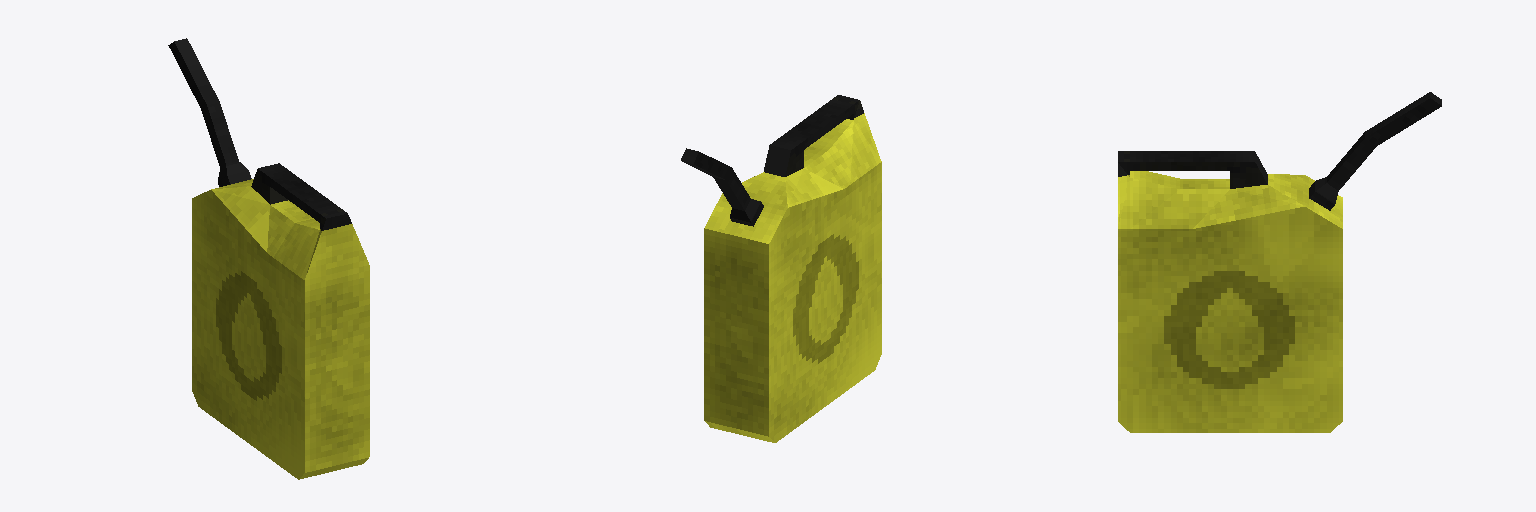
3 renders of one model, left to right at view 1: azimuth 30°, elevation 25°; view 2: azimuth 150°, elevation 25°; view 3: azimuth 270°, elevation 25°, orthographic.
Visible parts, largest first — view 1: Can, Spout; view 2: Can, Spout; view 3: Can, Spout.
Boxes of the visible parts, box(x1,y1,x2,y2) form: Can: box(192, 163, 369, 479); Spout: box(168, 38, 251, 186); Can: box(704, 95, 881, 442); Spout: box(681, 148, 763, 226); Can: box(1118, 151, 1342, 432); Spout: box(1309, 92, 1441, 210).
Size of the model in its own units: 0.375 by 1.78 by 1.62.
1 materials, 1 textured.